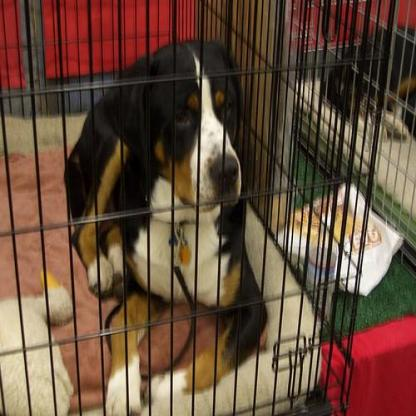Bernese_mountain_dog: (63, 41, 266, 414)
